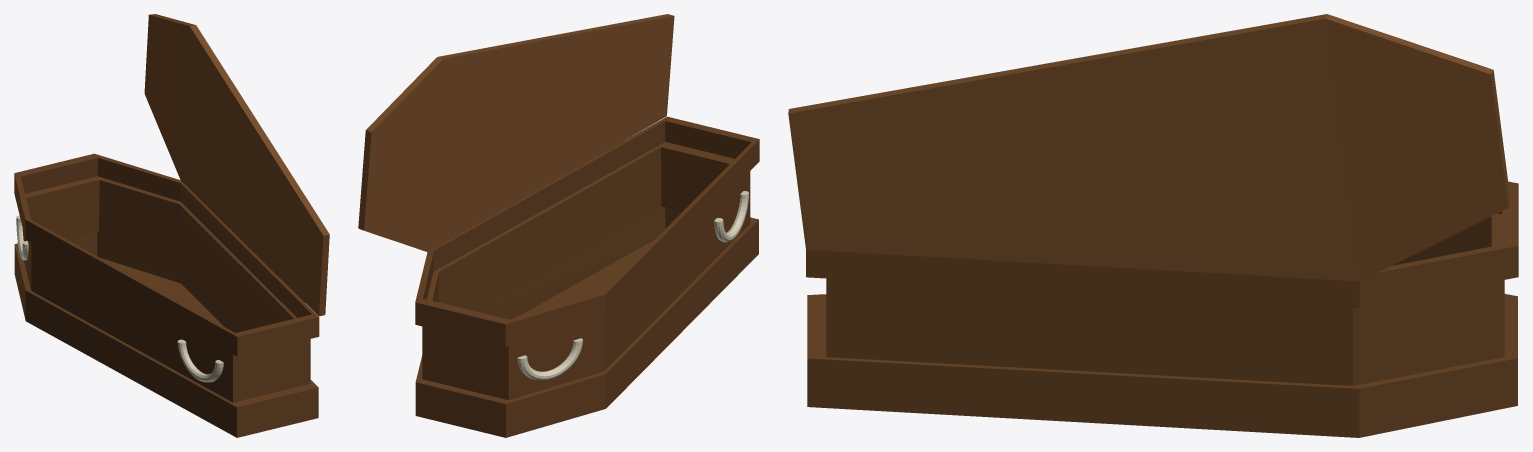
File: tabut2.fbx
The picture shows the model from 3 angles, left to right: view 1: azimuth 30°, elevation 25°; view 2: azimuth 150°, elevation 25°; view 3: azimuth 270°, elevation 25°; orthographic projection. The views are drawn at different scales.
Visible parts, largest first — view 1: Tabut; view 2: Tabut; view 3: Tabut.
Boxes of the visible parts, left/top/right/bottom form: Tabut: left=14, top=14, right=329, bottom=437; Tabut: left=358, top=14, right=759, bottom=437; Tabut: left=788, top=14, right=1518, bottom=437.
Size of the model in its own units: 84.85 by 124 by 195.
